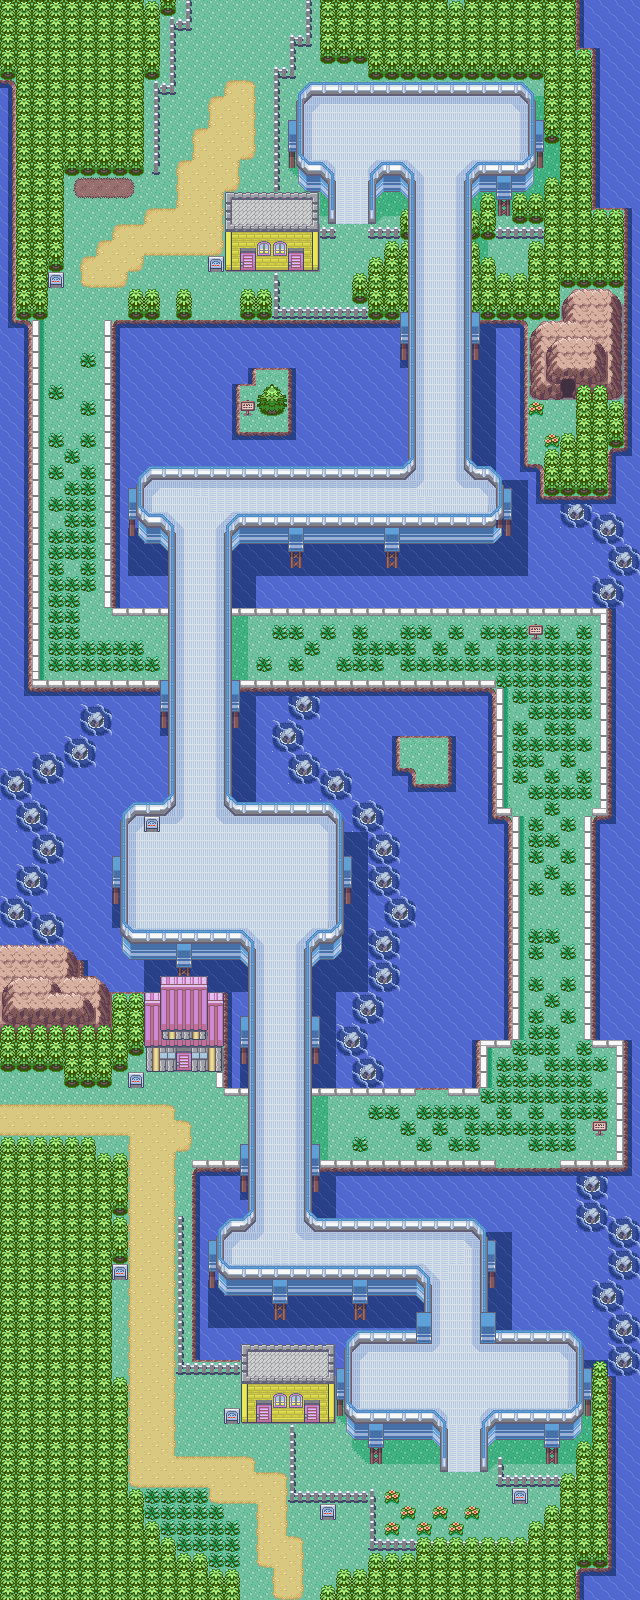cave: (544, 363, 588, 402)
normal_house: (142, 973, 226, 1076), (238, 1343, 340, 1427), (221, 190, 321, 274)
